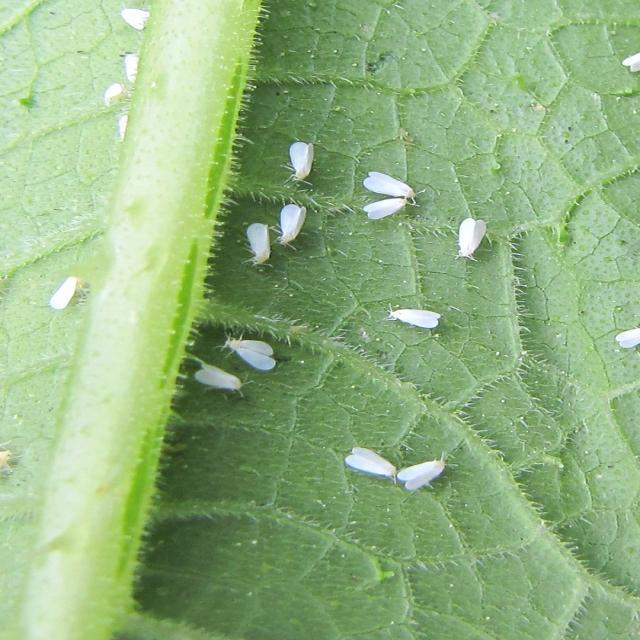Whiteflies: (170, 350, 273, 415), (377, 446, 462, 503), (321, 431, 399, 488), (227, 319, 298, 379), (268, 192, 332, 251), (369, 300, 458, 341), (345, 193, 433, 232), (441, 217, 508, 265), (277, 127, 329, 185), (237, 214, 298, 262), (357, 172, 424, 206), (601, 314, 640, 355)
